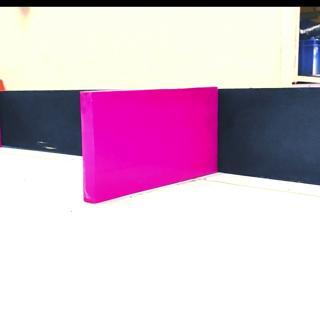xparking: (79, 92, 216, 187)
